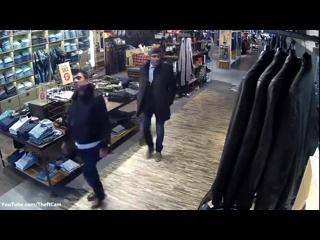Normal: (62, 70, 111, 209), (136, 46, 176, 162)
